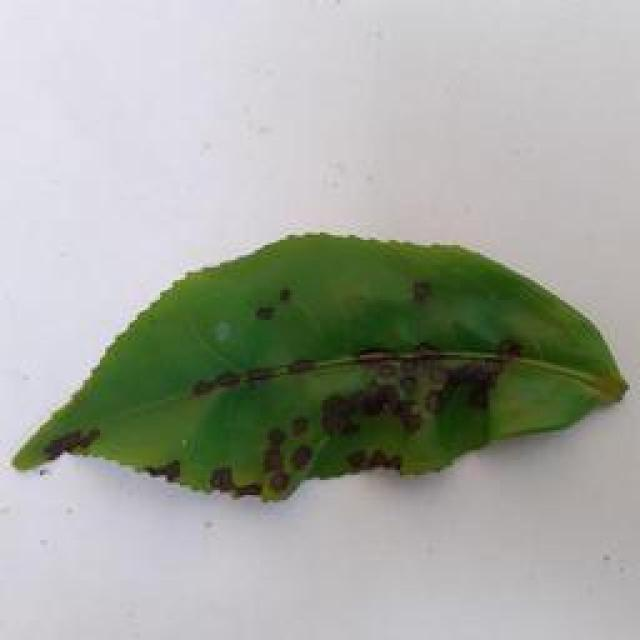Helopeltis: (2, 225, 640, 519)
